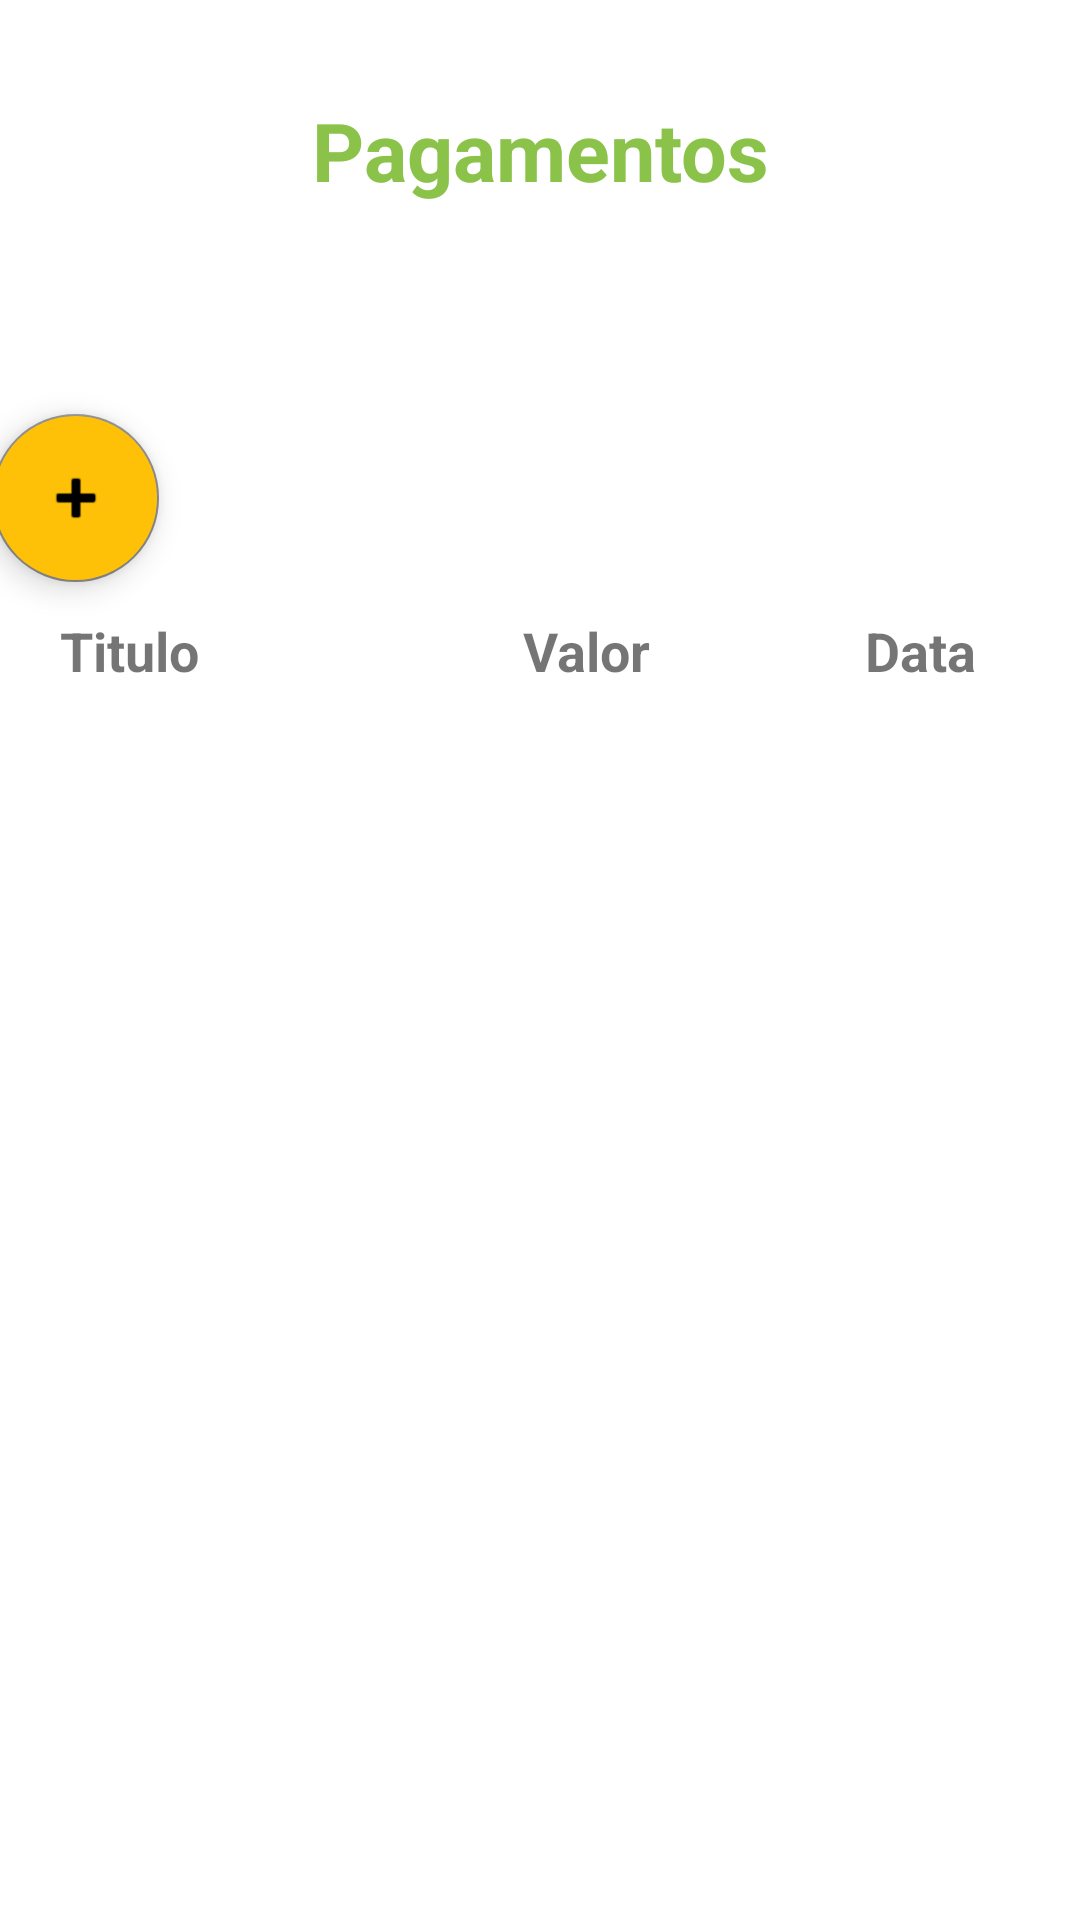

Icon bounding boxes for this 1080x1920 phone screenshot, format (x1=x1, y1=y1, x2=x2, y2=y2):
Botao: (x1=0, y1=414, x2=159, y2=582)
